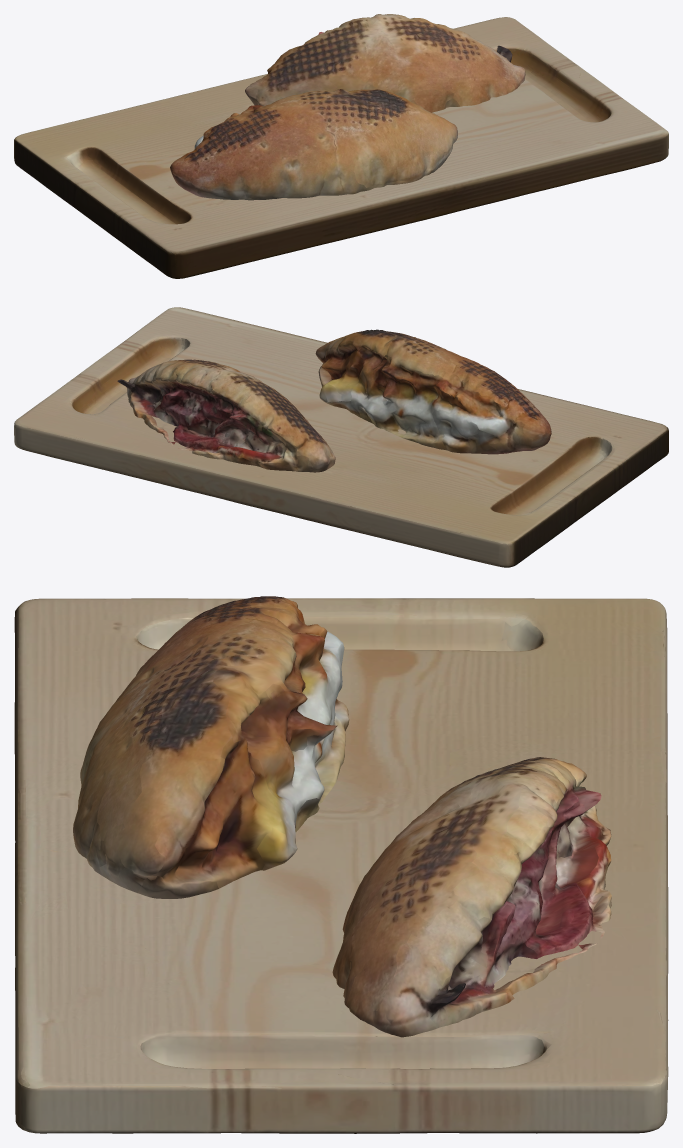
The model's file is mixed.shawerma.platter.01.glb.
3 views of the same model, one above another, from view 1: azimuth 30°, elevation 25°; view 2: azimuth 150°, elevation 25°; view 3: azimuth 270°, elevation 25° (orthographic). The views are drawn at different scales.
Visible parts, largest first — view 1: /Root/Scenes/Scene/Object_299/Object_303/Object_304/Submesh_, /Root/Scenes/Scene/Object_299/Object_300/Submesh_0; view 2: /Root/Scenes/Scene/Object_299/Object_303/Object_304/Submesh_, /Root/Scenes/Scene/Object_299/Object_300/Submesh_0; view 3: /Root/Scenes/Scene/Object_299/Object_303/Object_304/Submesh_, /Root/Scenes/Scene/Object_299/Object_300/Submesh_0.
Boxes of the visible parts, x1,y1,x2,y2 form: /Root/Scenes/Scene/Object_299/Object_303/Object_304/Submesh_: [14, 17, 668, 278]; /Root/Scenes/Scene/Object_299/Object_300/Submesh_0: [170, 14, 525, 200]; /Root/Scenes/Scene/Object_299/Object_303/Object_304/Submesh_: [14, 307, 668, 567]; /Root/Scenes/Scene/Object_299/Object_300/Submesh_0: [117, 329, 551, 472]; /Root/Scenes/Scene/Object_299/Object_303/Object_304/Submesh_: [14, 598, 668, 1133]; /Root/Scenes/Scene/Object_299/Object_300/Submesh_0: [73, 596, 611, 1037].
Bounding box in the file's own units: 0.3458 × 0.0649 × 0.1955.
2 materials, 2 textured.
